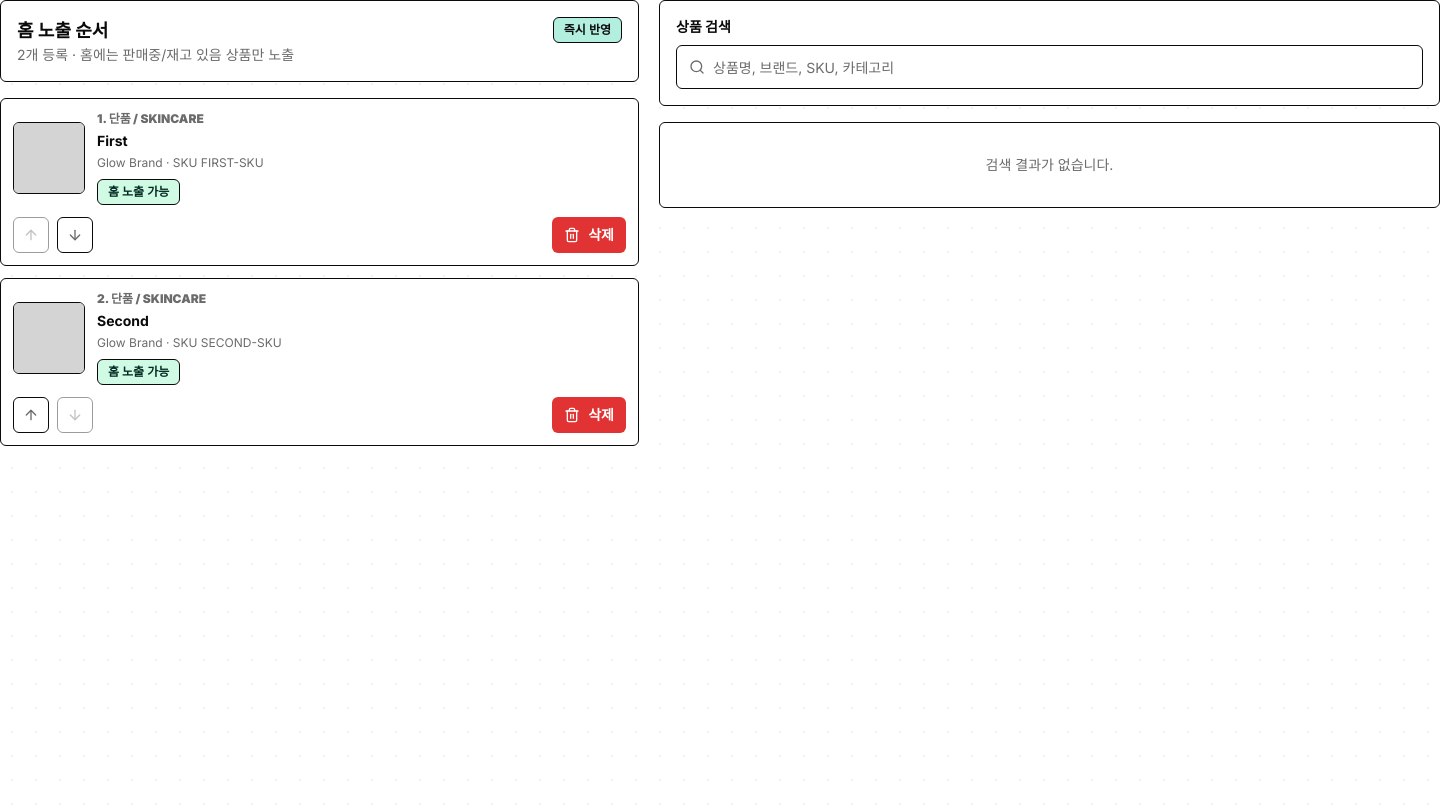
Test: AdminHomeCurationClient › deletes and reorders curated entries
Click the button named "Second 위로 이동". click: (31,415)
box: [13,397,49,433]
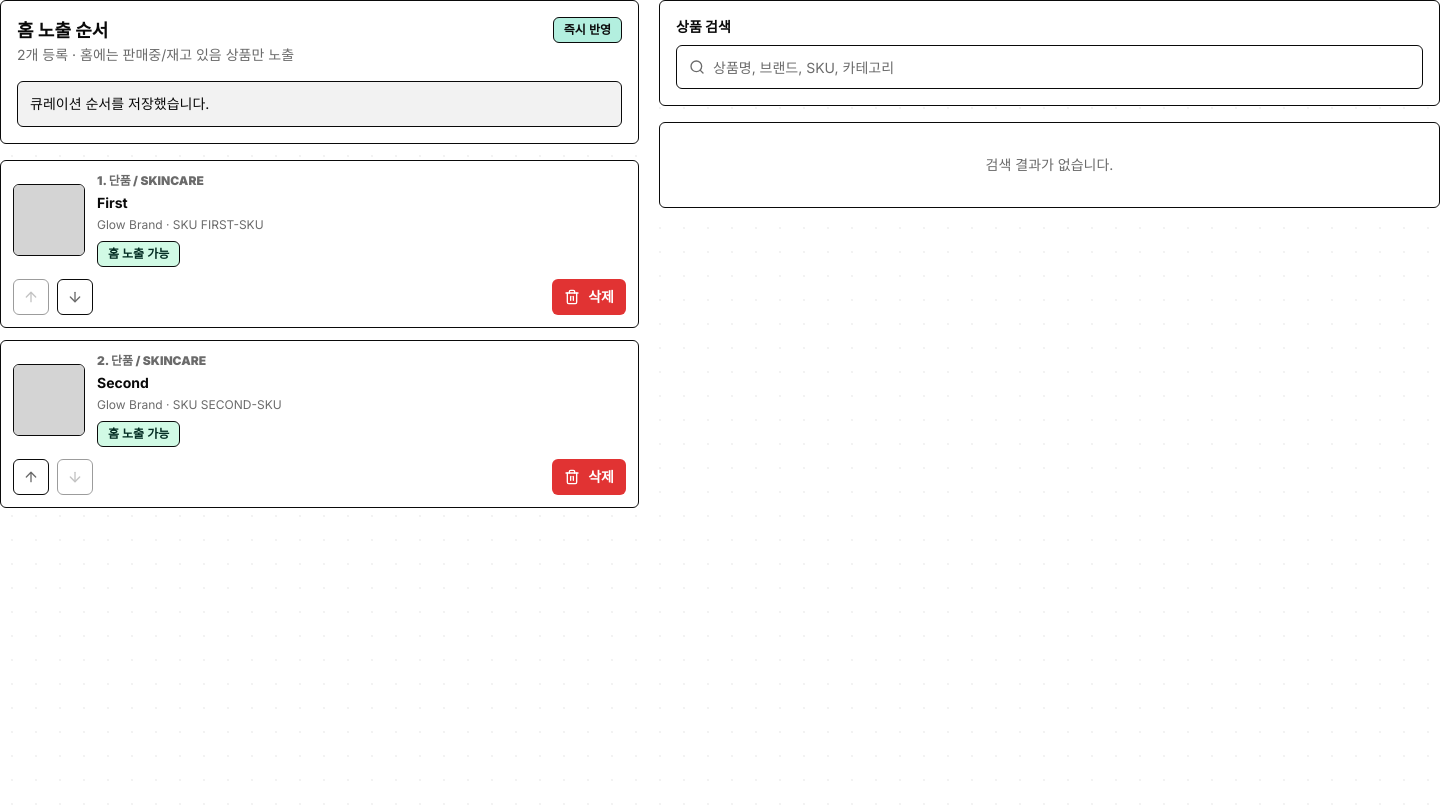
Now the message with test id "admin-home-curation-message" shows "큐레이션 순서를 저장했습니다", box [30,95,209,112]
Click the 2nd button "삭제". click: (589,477)
box: [552,459,626,495]
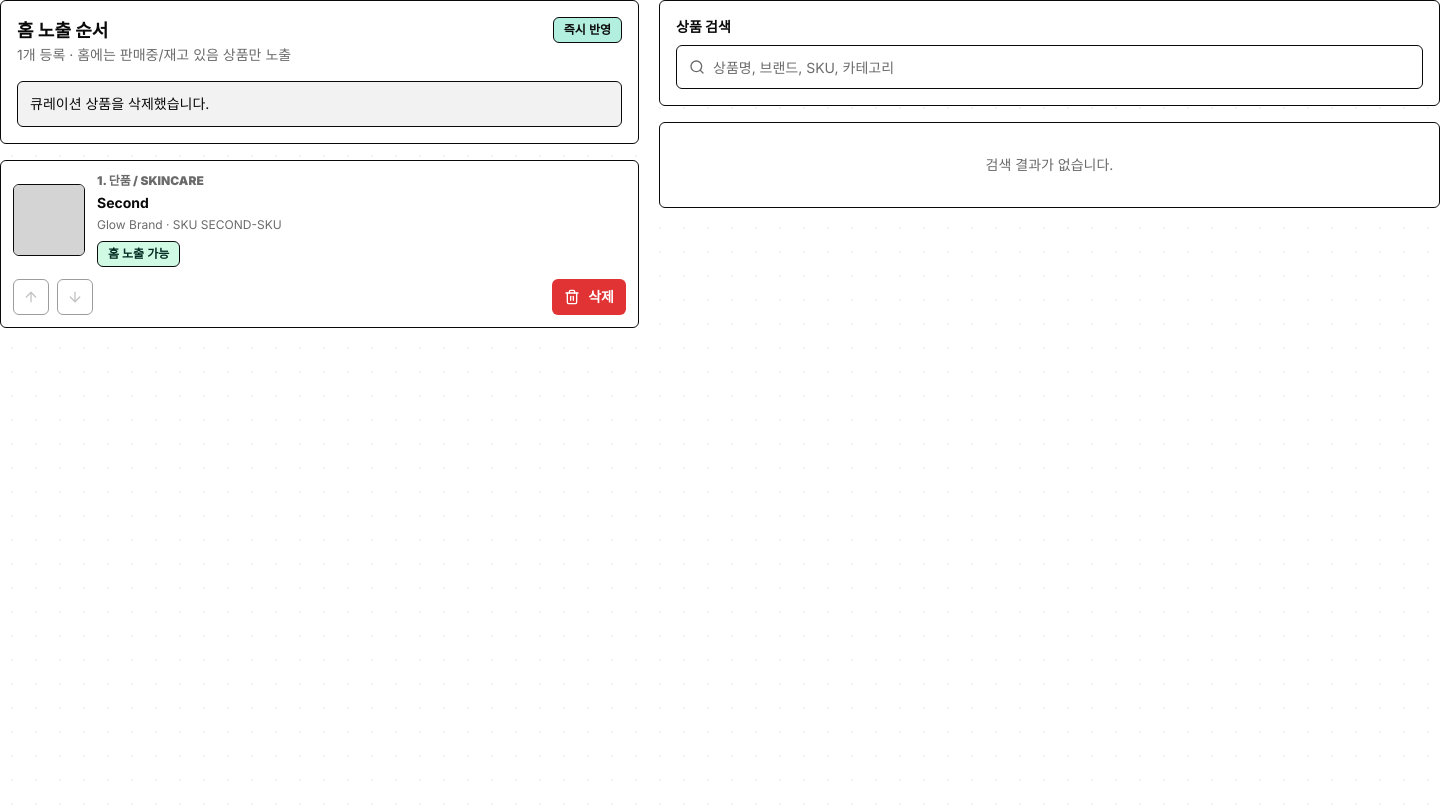
Now the message with test id "admin-home-curation-message" shows "큐레이션 상품을 삭제했습니다", box [30,95,209,112]
